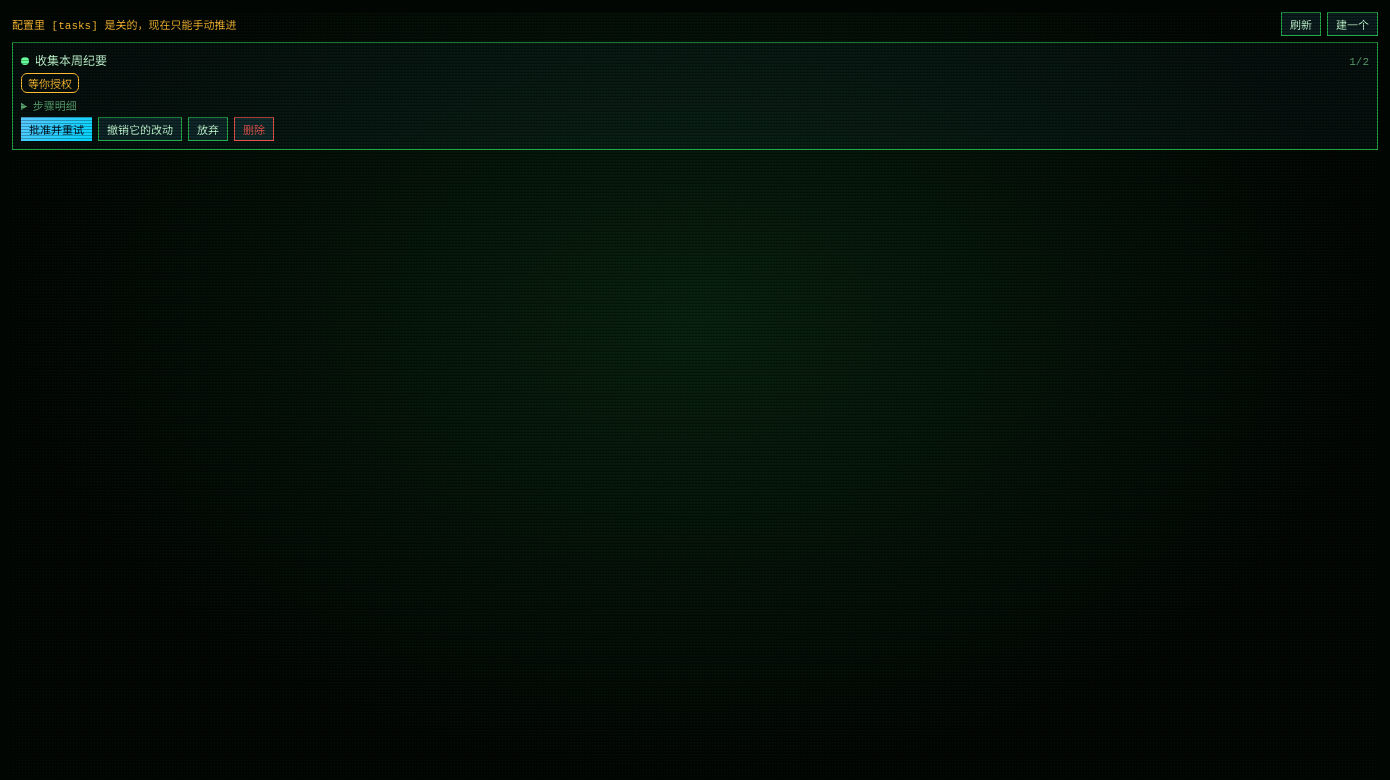
Test: SpineTaskPanel · 跨会话目标 › 被拦工具清单为空时不发请求（后端也会拒，白跑一个往返）
The width and height of the screenshot is (1390, 780).
Click the button with test id "spine-approve-btn" at (56, 129), box [21,117,92,141]
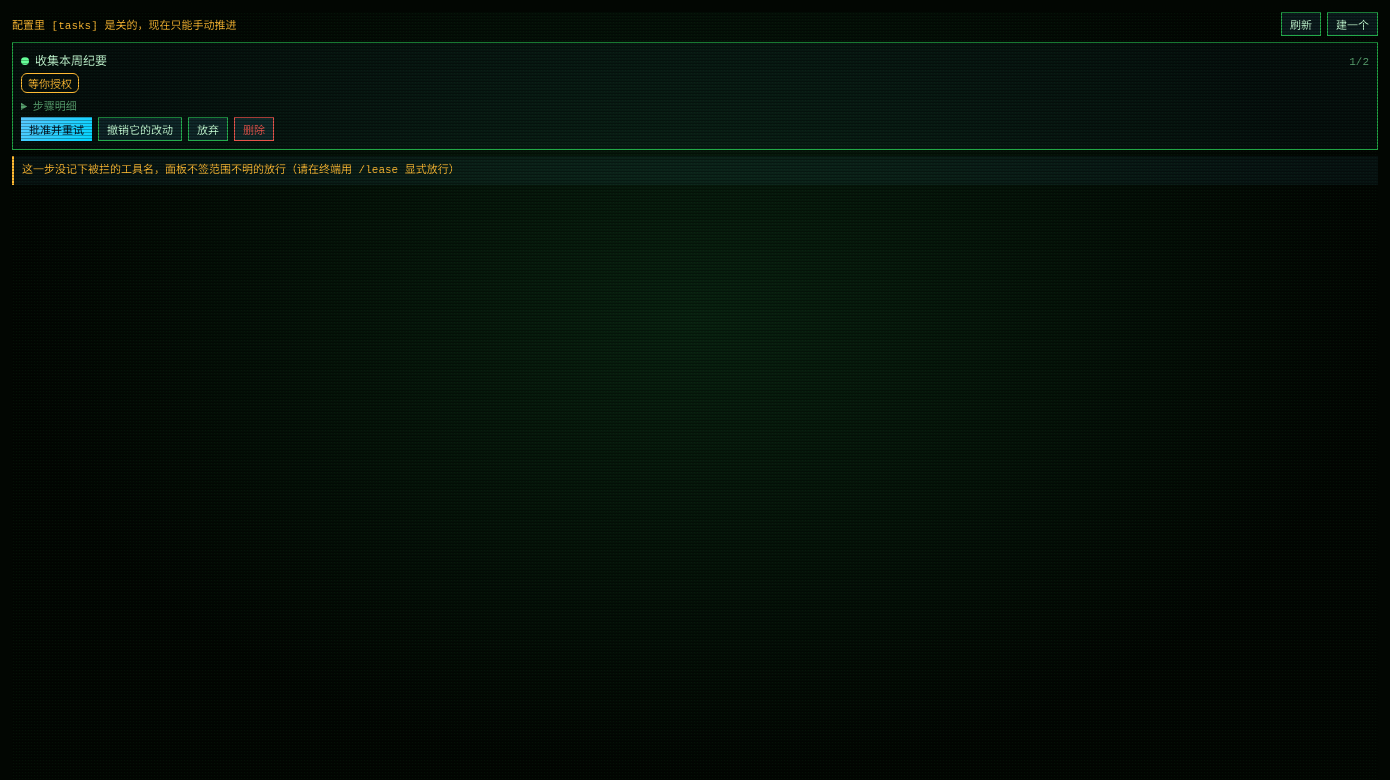
Now the text with test id "spine-notice" shows "不签范围不明的放行", box [22,164,460,176]
